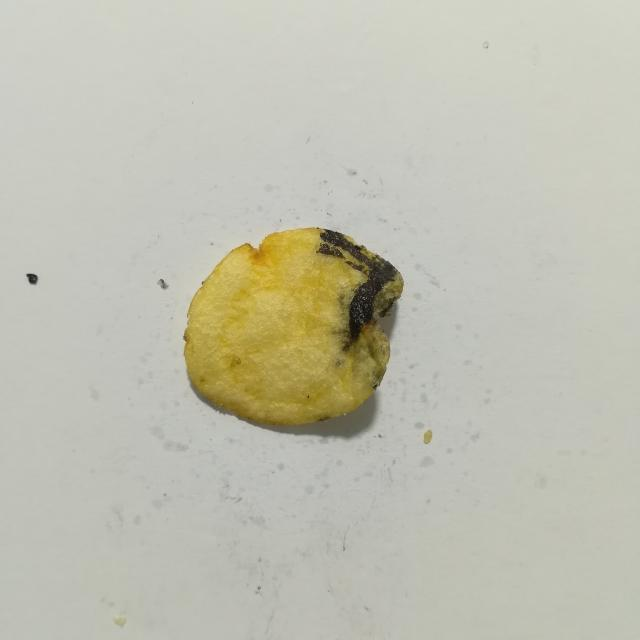chip: (184, 228, 403, 425)
damaged: (316, 229, 398, 350), (378, 298, 396, 317), (26, 273, 38, 284)
semi-damaged: (356, 318, 390, 389), (338, 269, 368, 338), (374, 272, 403, 316)
